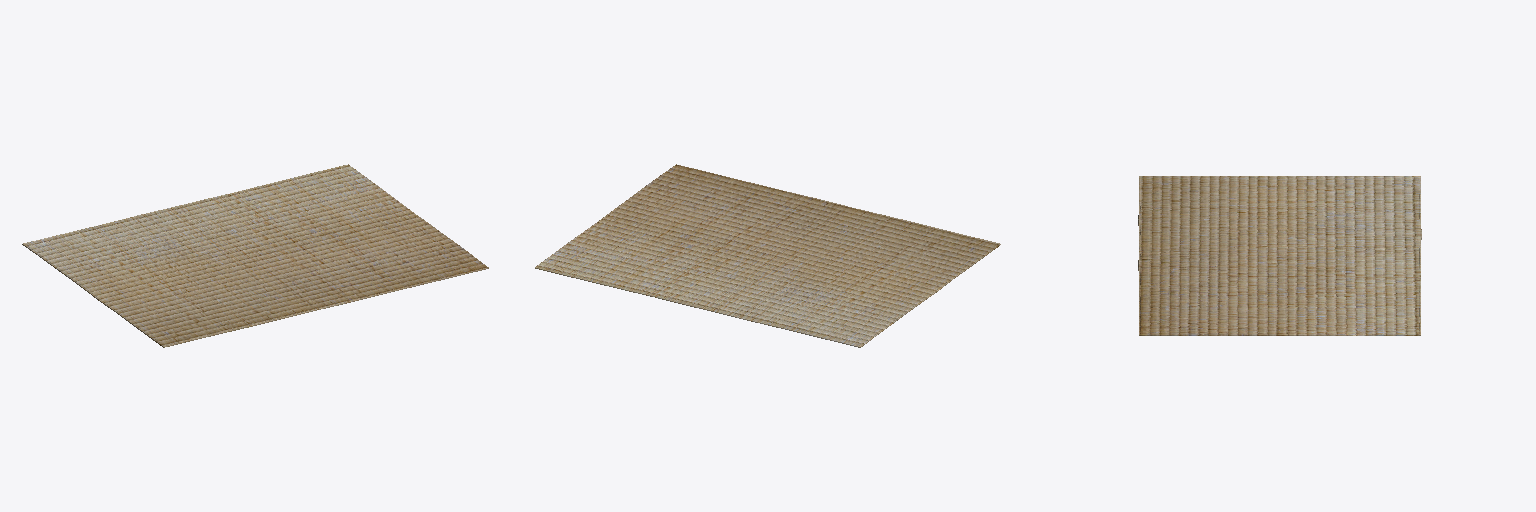
The picture shows the model from 3 angles: view 1: azimuth 30°, elevation 25°; view 2: azimuth 150°, elevation 25°; view 3: azimuth 270°, elevation 25°; orthographic projection.
Visible parts, largest first — view 1: Rugs_80_vray_and_corona_2014:Plane008; view 2: Rugs_80_vray_and_corona_2014:Plane008; view 3: Rugs_80_vray_and_corona_2014:Plane008.
Boxes of the visible parts, x1,y1,x2,y2 form: Rugs_80_vray_and_corona_2014:Plane008: [22, 164, 488, 347]; Rugs_80_vray_and_corona_2014:Plane008: [535, 164, 1000, 347]; Rugs_80_vray_and_corona_2014:Plane008: [1138, 176, 1421, 335].
Size of the model in its own units: 10.15 by 0.0333 by 7.63.
Materials: 1 (1 with a texture image).